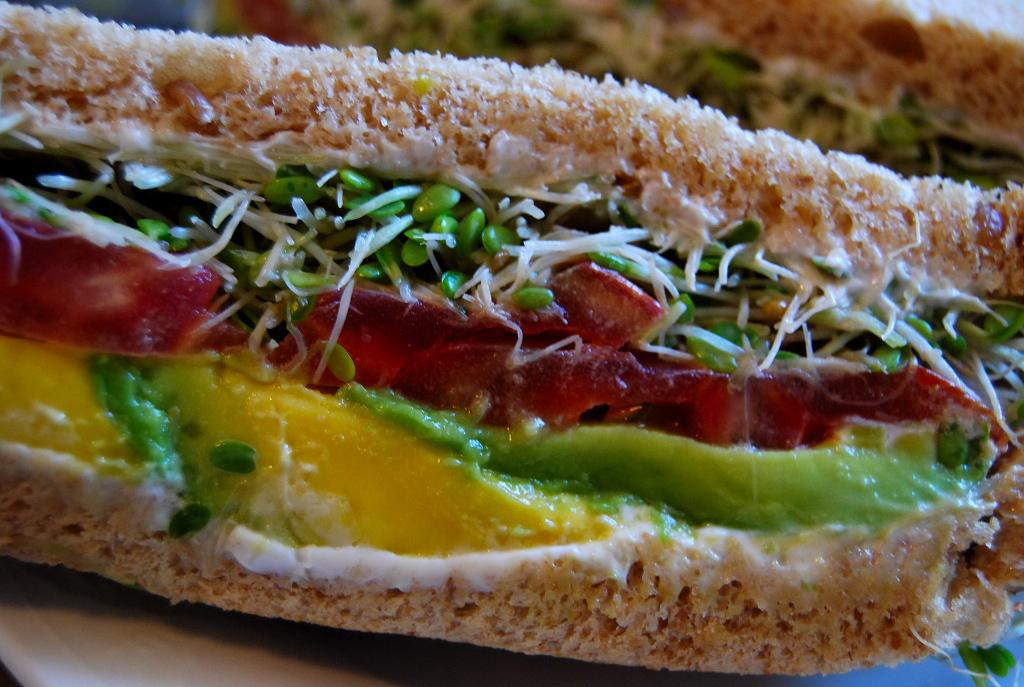sandwich: (0, 0, 1023, 673)
